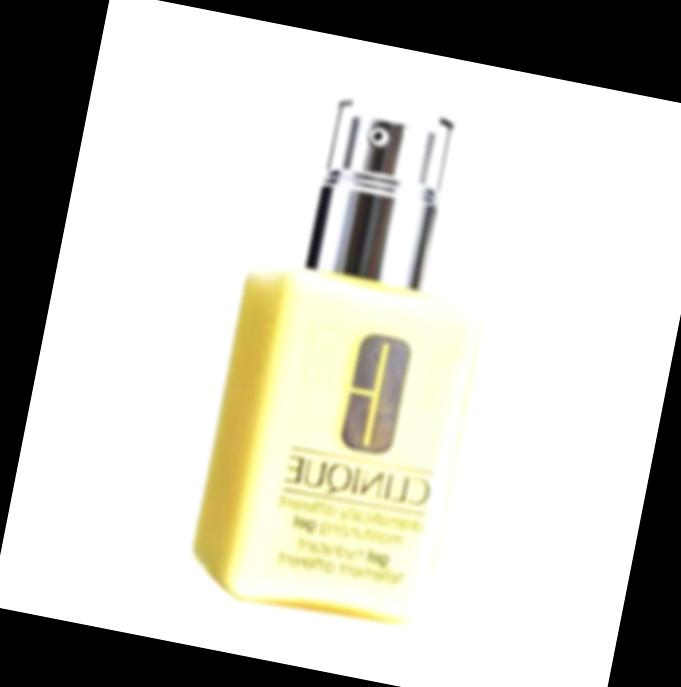cosmetic: (183, 78, 523, 631)
